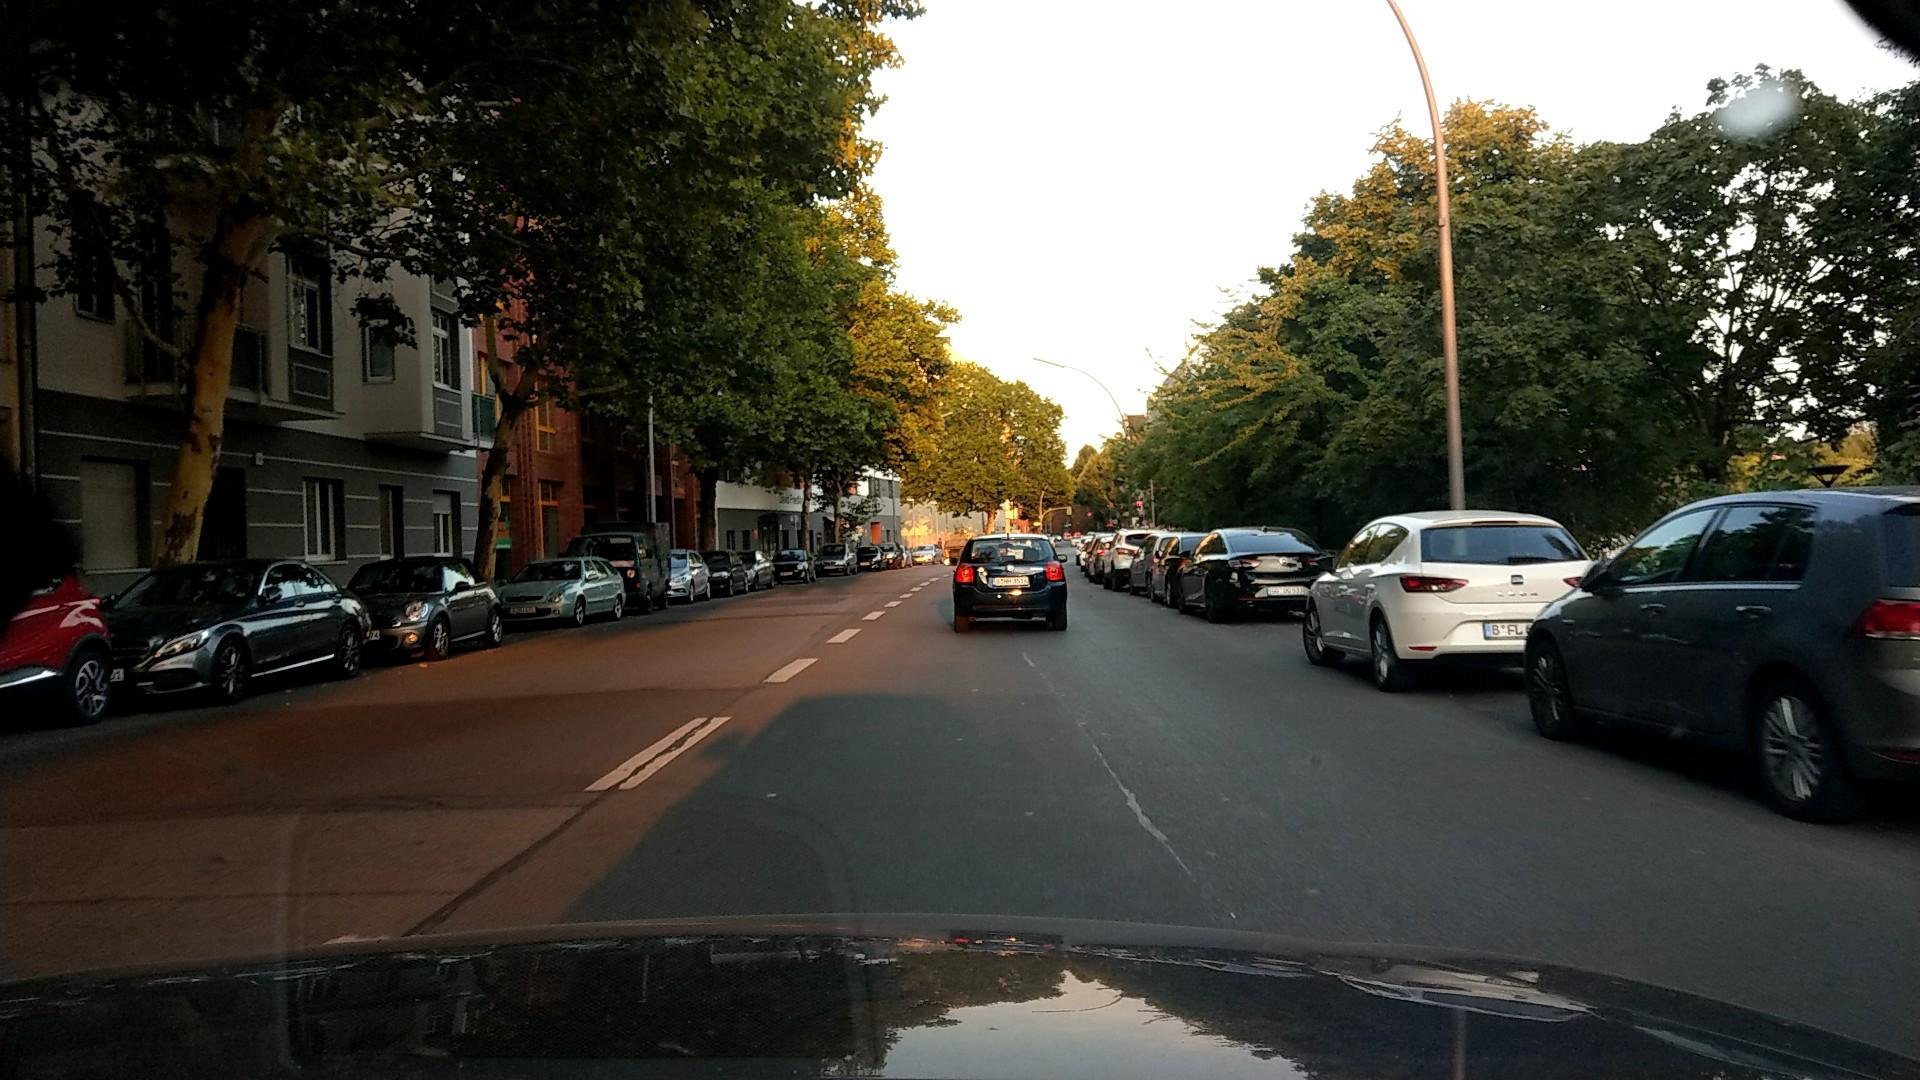Vehicle registration plate: (1483, 623, 1534, 638), (989, 576, 1029, 586), (1267, 587, 1305, 595), (508, 607, 537, 614)
